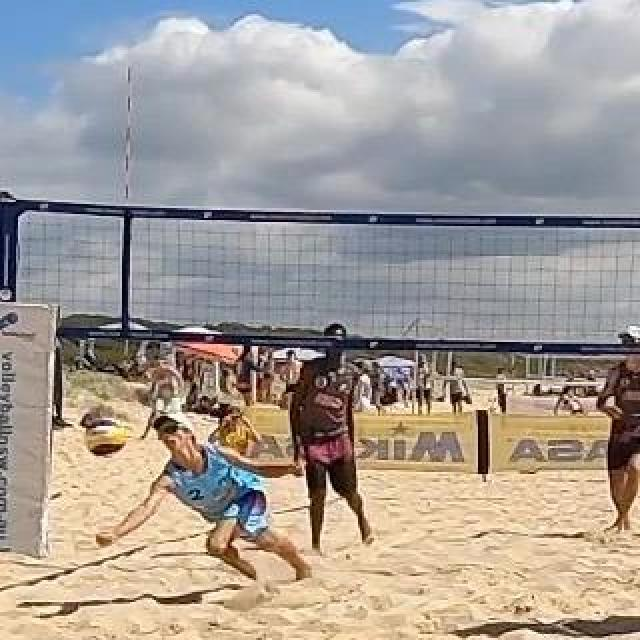volleyball: (86, 415, 126, 457)
